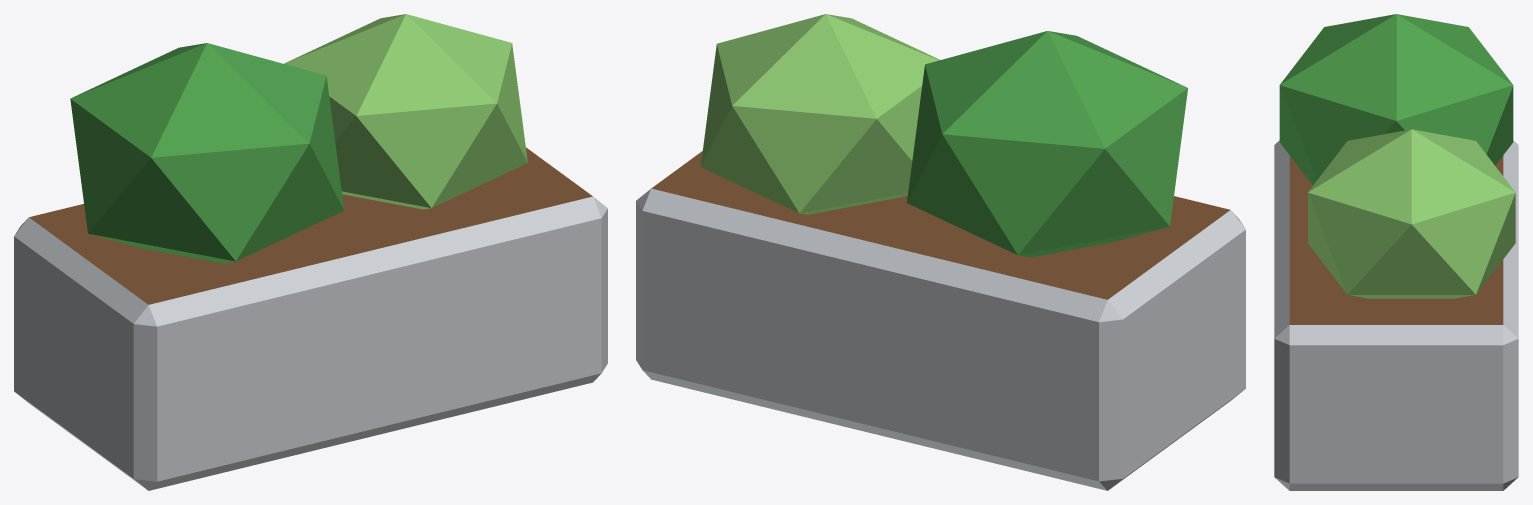
File: planter.fbx
3 renders of one model, left to right at view 1: azimuth 30°, elevation 25°; view 2: azimuth 150°, elevation 25°; view 3: azimuth 270°, elevation 25°, orthographic. The views are drawn at different scales.
Visible parts, largest first — view 1: planter; view 2: planter; view 3: planter.
Boxes of the visible parts, left/top/right/bottom form: planter: left=14, top=14, right=607, bottom=490; planter: left=636, top=14, right=1245, bottom=490; planter: left=1274, top=14, right=1518, bottom=490.
Size of the model in its own units: 1.6 by 1.21 by 0.8.
